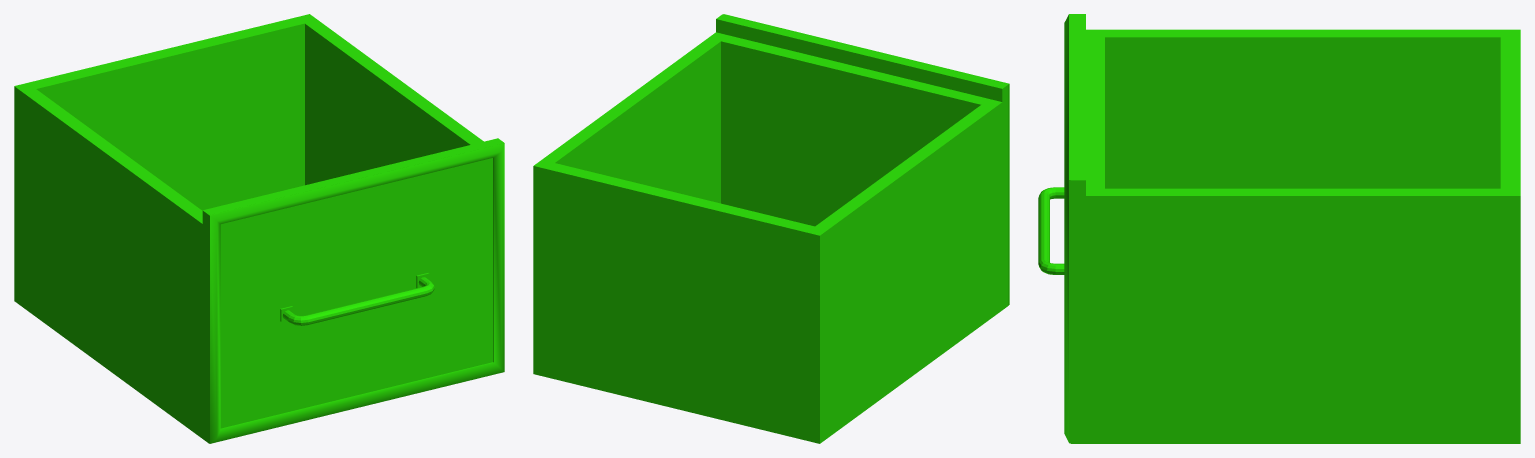
File: Cupboard_02_Drawer_02.fbx
The picture shows the model from 3 angles, left to right: view 1: azimuth 30°, elevation 25°; view 2: azimuth 150°, elevation 25°; view 3: azimuth 270°, elevation 25°; orthographic projection. The views are drawn at different scales.
Visible parts, largest first — view 1: Cupboard_02_Drawer_02; view 2: Cupboard_02_Drawer_02; view 3: Cupboard_02_Drawer_02.
Boxes of the visible parts, x1,y1,x2,y2 form: Cupboard_02_Drawer_02: [14, 14, 504, 443]; Cupboard_02_Drawer_02: [533, 14, 1009, 443]; Cupboard_02_Drawer_02: [1038, 14, 1520, 443].
Size of the model in its own units: 34.4 by 25.42 by 42.11.
